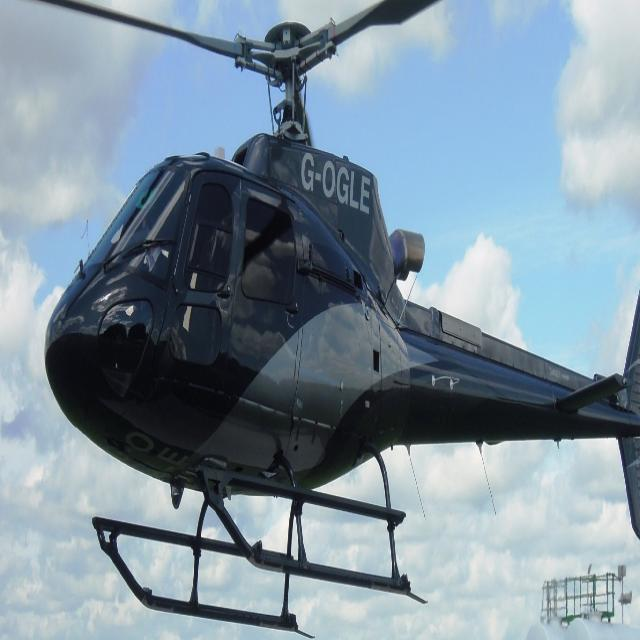helicopter: (14, 1, 640, 640)
